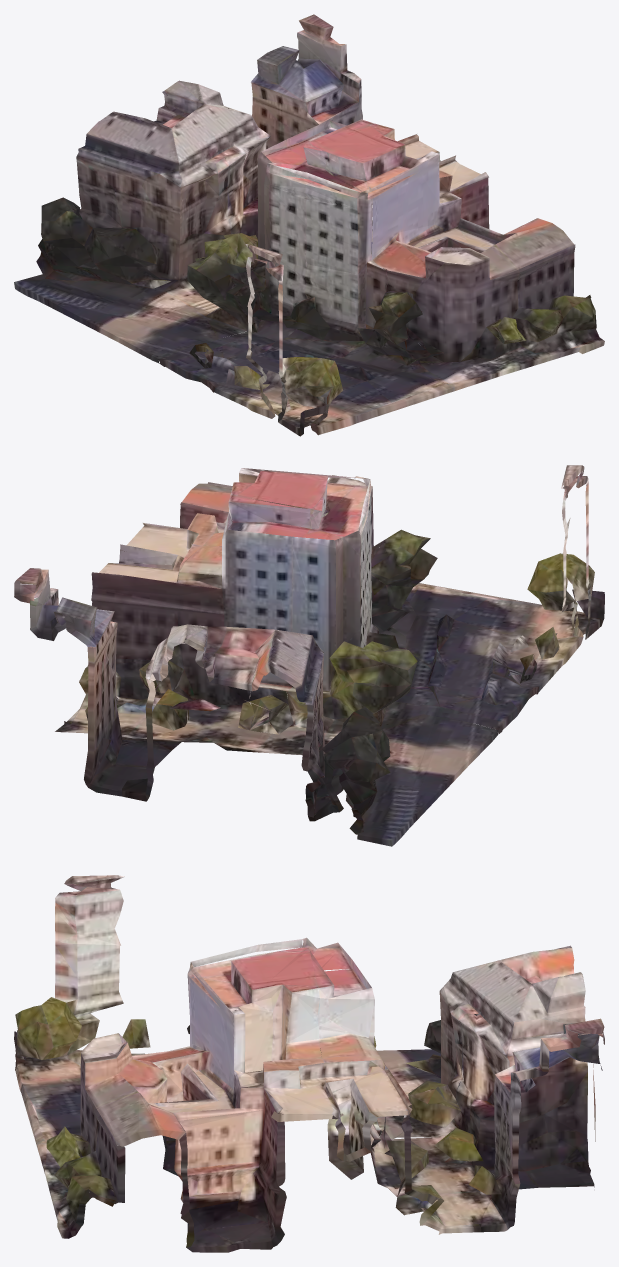
3 renders of one model, top to bottom at view 1: azimuth 30°, elevation 25°; view 2: azimuth 150°, elevation 25°; view 3: azimuth 270°, elevation 25°, orthographic. The views are drawn at different scales.
Visible parts, largest first — view 1: Mesh_0; view 2: Mesh_0; view 3: Mesh_0.
Part boxes in pixels (x1,y1,x2,y2): Mesh_0: (14,14,604,436); Mesh_0: (14,465,604,846); Mesh_0: (14,875,604,1252).
Bounding box in the file's own units: 66.55 × 32.36 × 82.48.
Materials: 1 (1 with a texture image).
